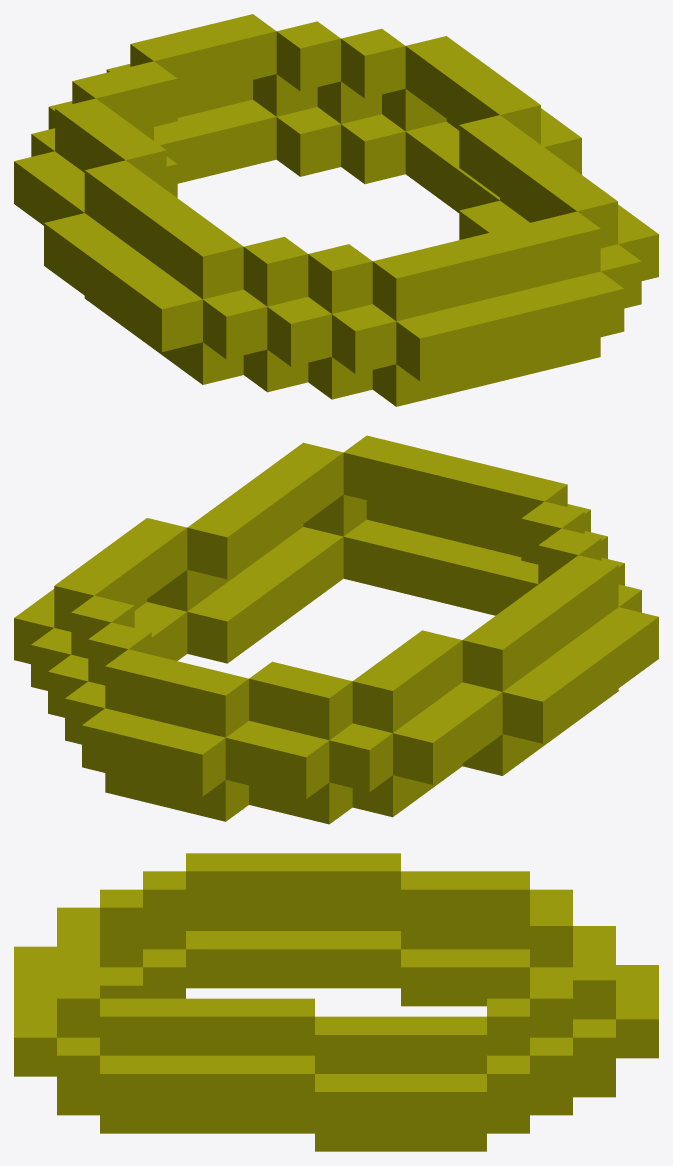
File: MoscaNivel5-0.obj
3 views of the same model, one above another, from view 1: azimuth 30°, elevation 25°; view 2: azimuth 150°, elevation 25°; view 3: azimuth 270°, elevation 25° (orthographic). The views are drawn at different scales.
Bounding box in the file's own units: 1.2 × 0.3 × 1.5.
Materials: 1 (1 with a texture image).
